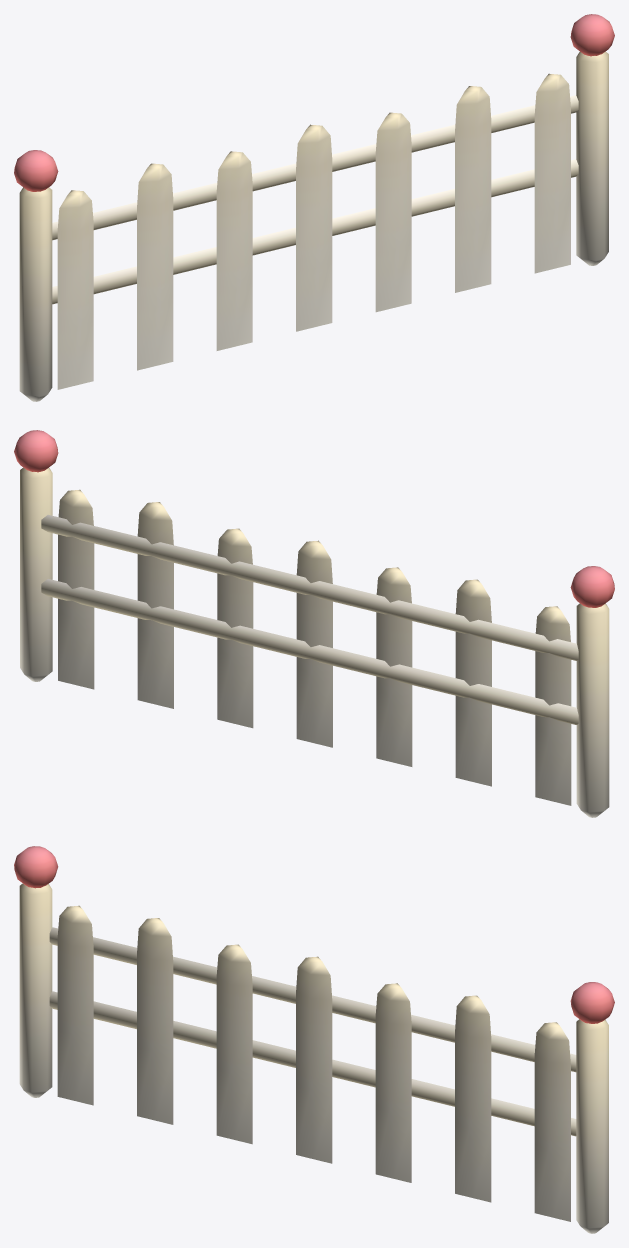
The model's file is picket_fence.glb.
3 views of the same model, one above another, from view 1: azimuth 30°, elevation 25°; view 2: azimuth 150°, elevation 25°; view 3: azimuth 330°, elevation 25° (orthographic).
Visible parts, largest first — view 1: picket_fence; view 2: picket_fence; view 3: picket_fence.
Part boxes in pixels (x1,y1,x2,y2): picket_fence: [14, 14, 614, 401]; picket_fence: [14, 430, 614, 817]; picket_fence: [14, 846, 614, 1233].
Size of the model in its own units: 4.27 by 1.7 by 0.2771.
1 material, 1 textured.
